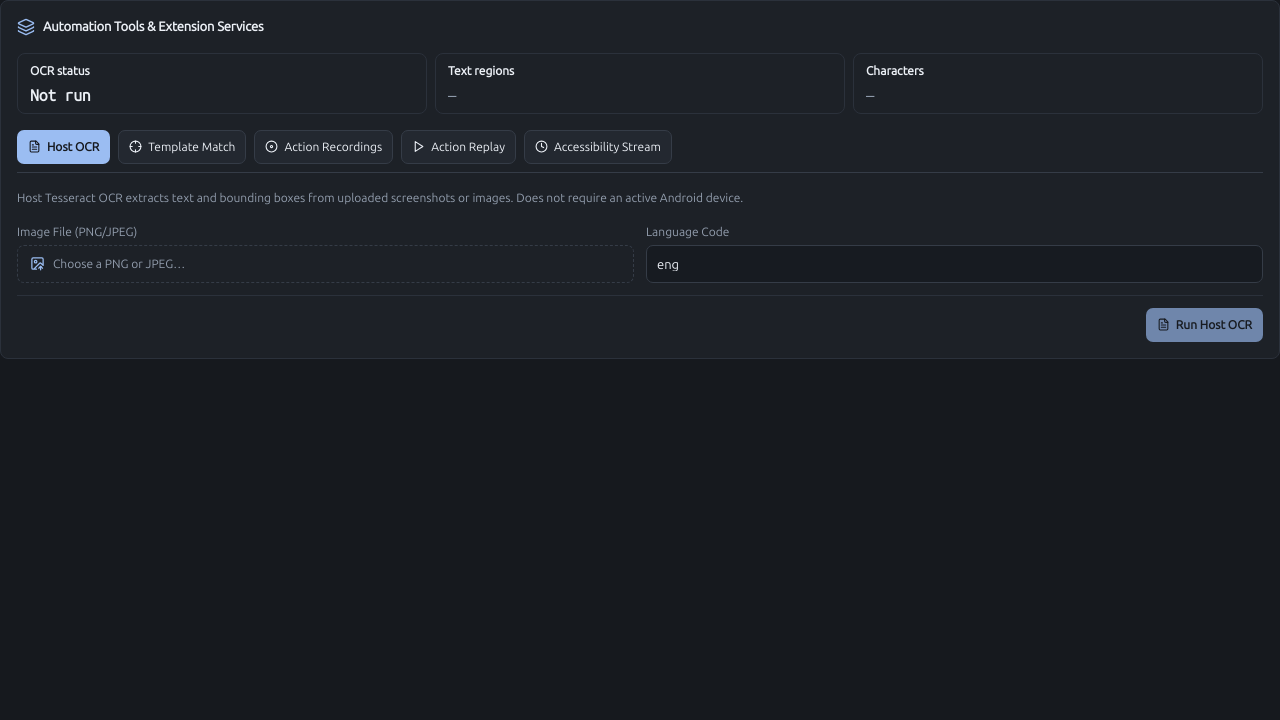
Test: AutomationTools Component and automationClient › Action Recordings › starts and stops recording and displays steps
Click the button with test id "tab-recordings": point(324, 147) [254,130,393,164]
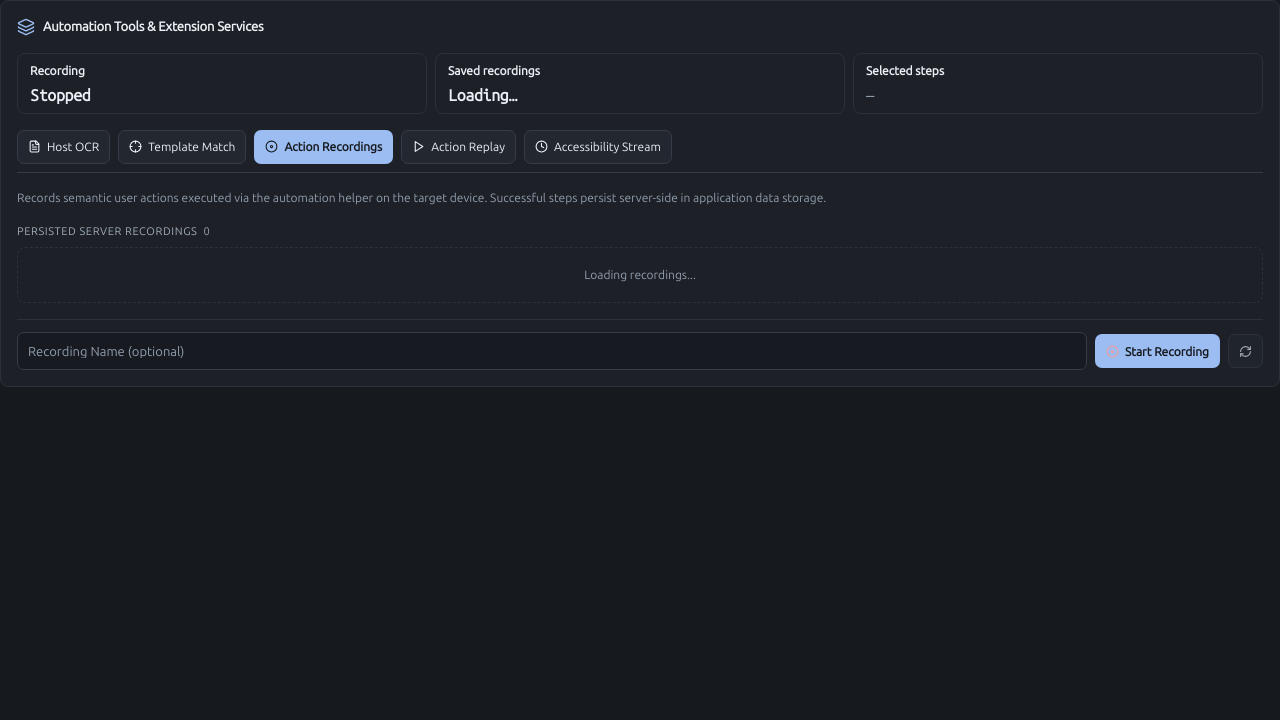
# Enter recording name and click Start
In the field with test id "recording-name-input": point(552, 351) [17,332,1087,370], type "Checkout Flow"
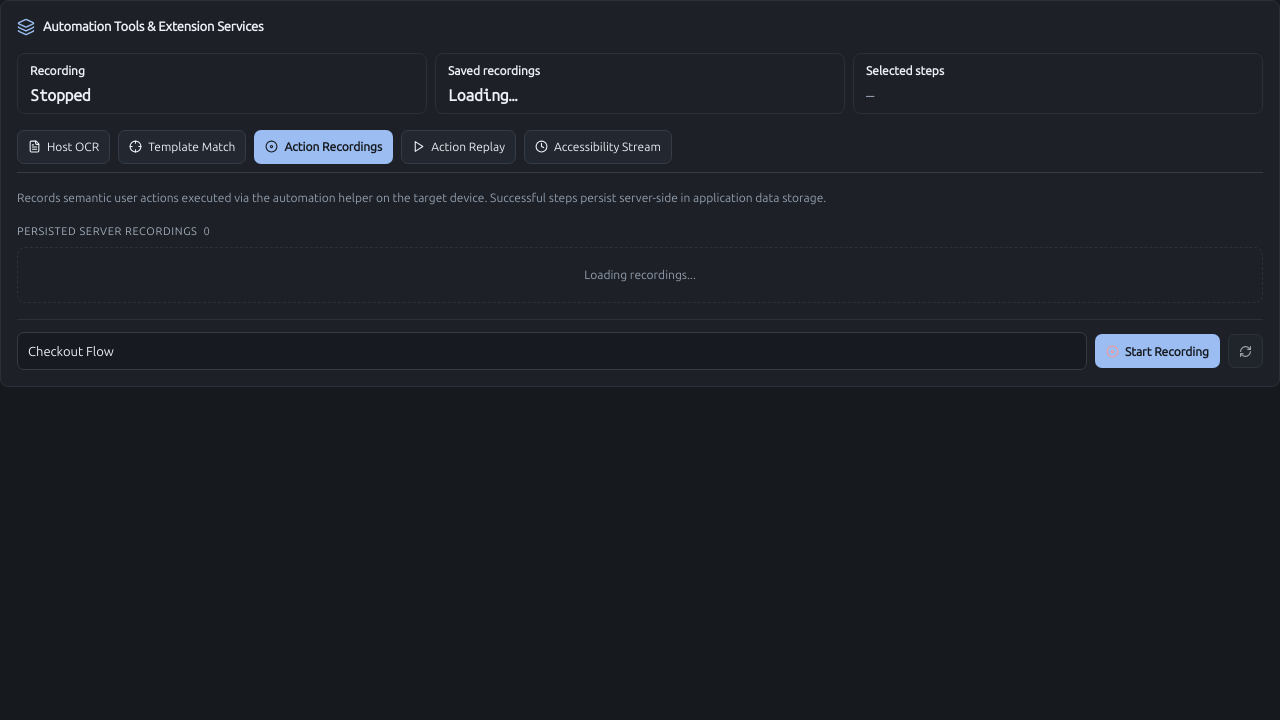
Click the button with test id "start-recording-btn": point(1158, 351) [1095,334,1220,368]
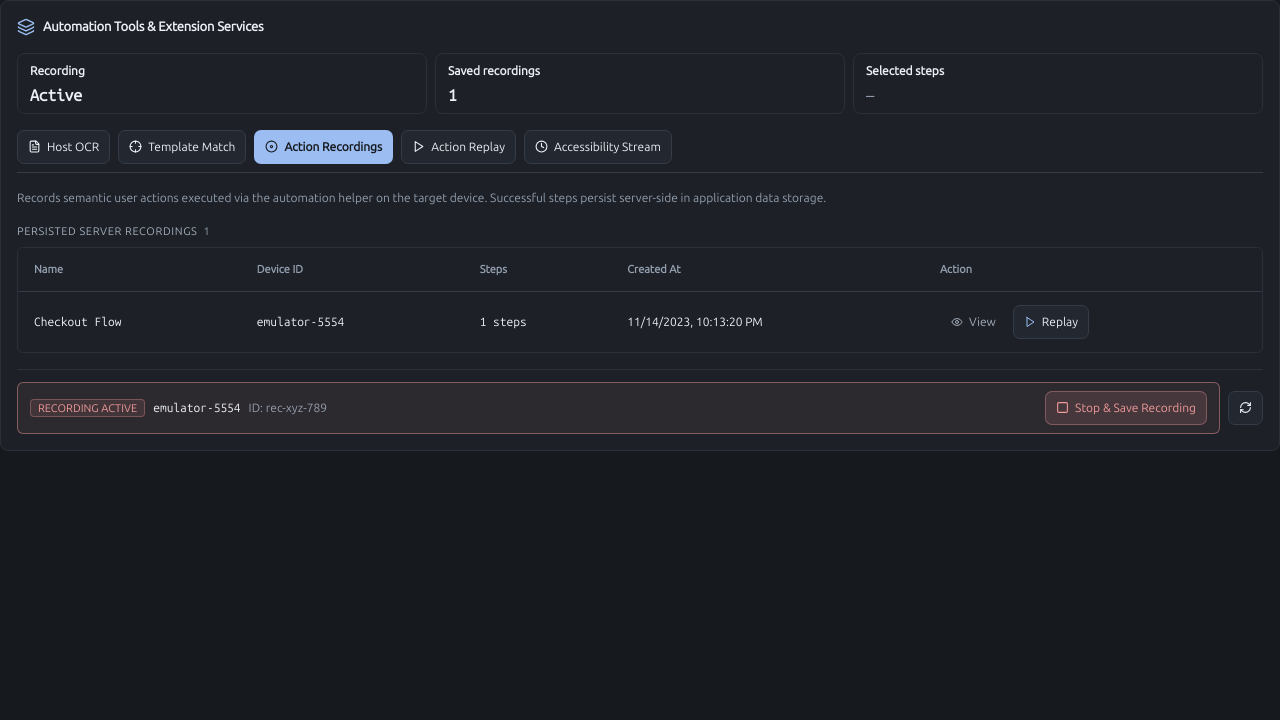
Check: the button with test id "stop-recording-btn" is shown
# Stop recording
Click the button with test id "stop-recording-btn": point(1126, 408) [1045,391,1207,425]
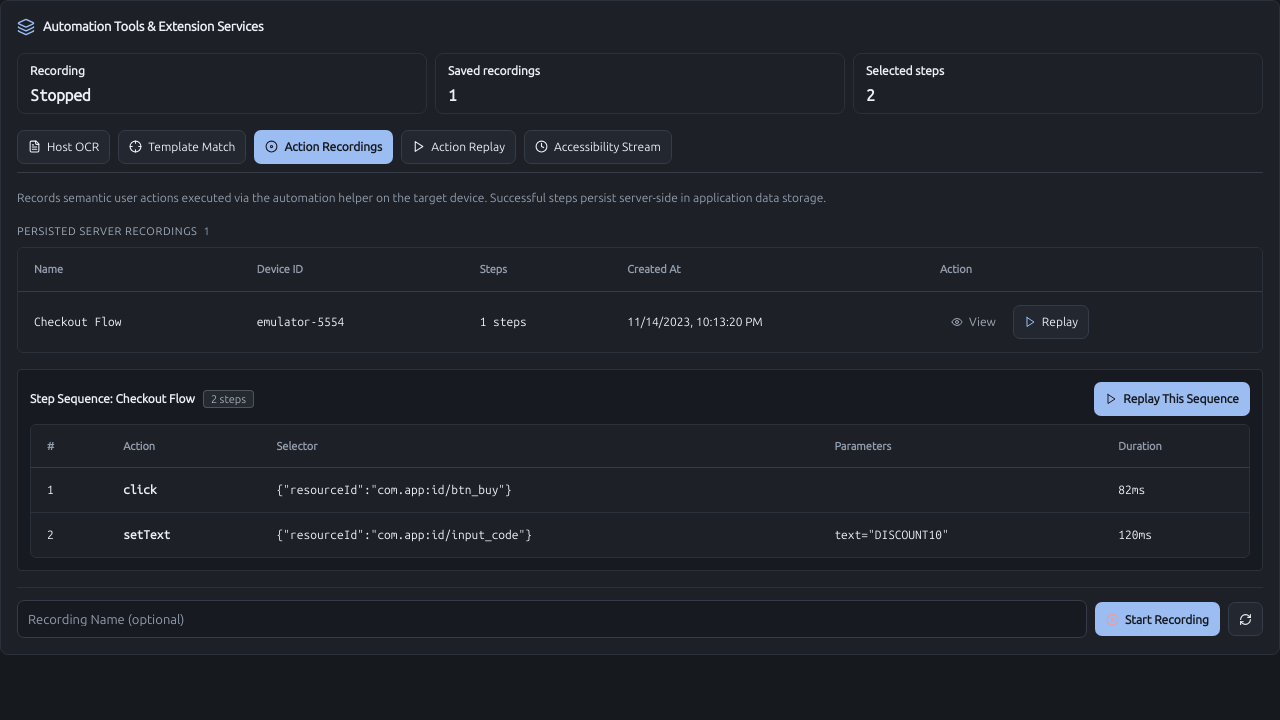
Check: the element with test id "selected-recording-steps" is shown, box [17,369,1263,571]
Check: the table with test id "recorded-steps-table" shows "click", box [123,483,157,496]
Check: the table with test id "recorded-steps-table" shows "com.app:id/btn_buy", box [277,483,512,496]
